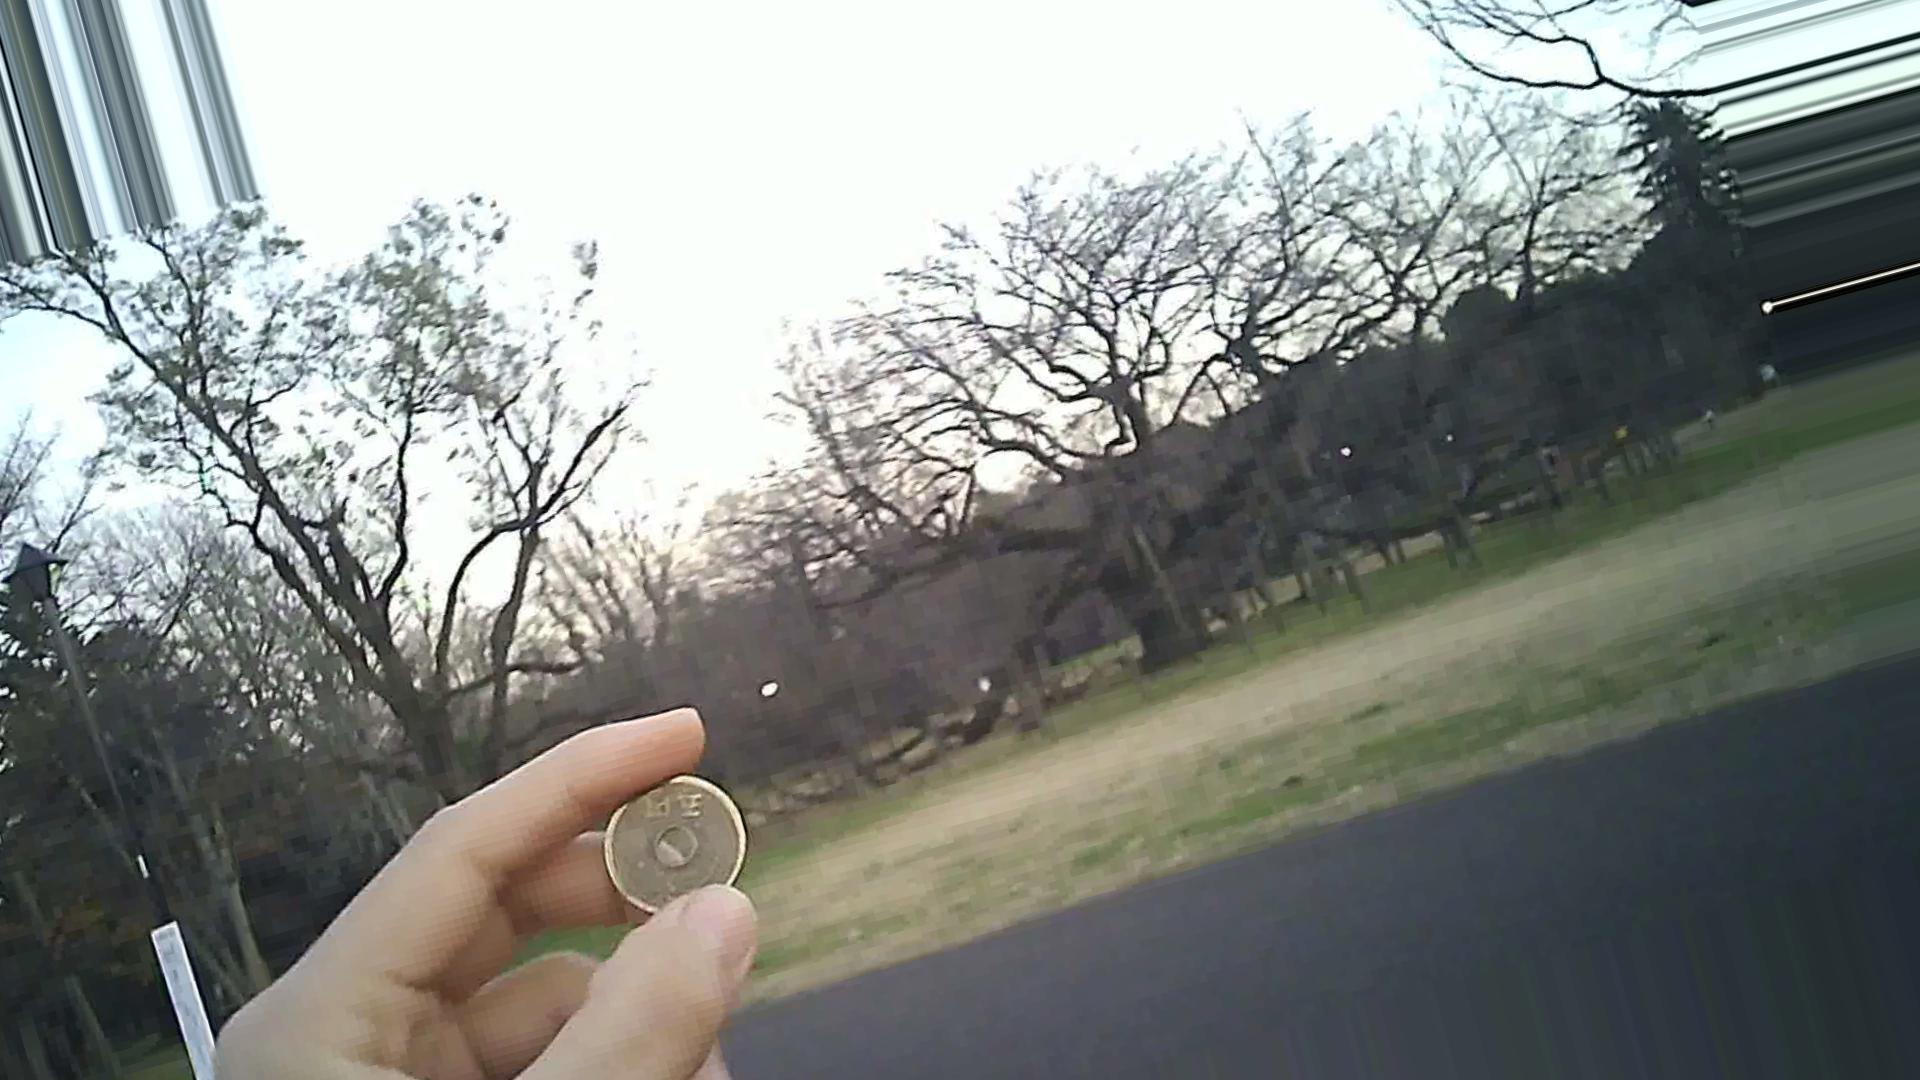5 Yen: (593, 760, 769, 916)
